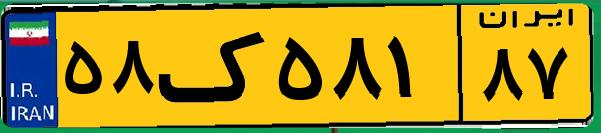1: (385, 28, 445, 110)
5: (270, 28, 330, 110), (57, 26, 110, 100)
7: (525, 38, 570, 115)
8: (330, 28, 385, 110), (475, 38, 525, 113), (110, 28, 158, 98)
ک: (158, 12, 270, 120)
